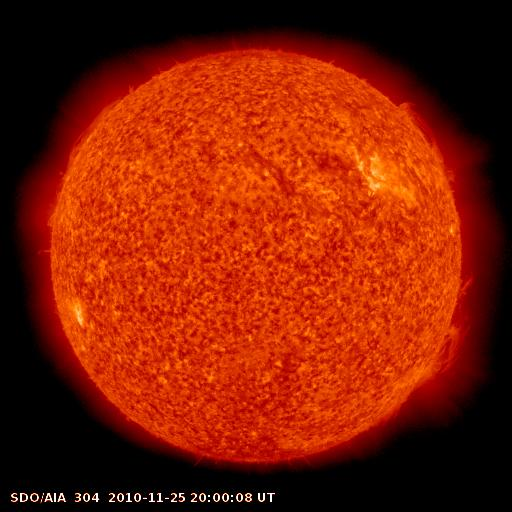prominence: (408, 269, 486, 392), (392, 96, 468, 193), (63, 91, 132, 170), (35, 185, 70, 262)
